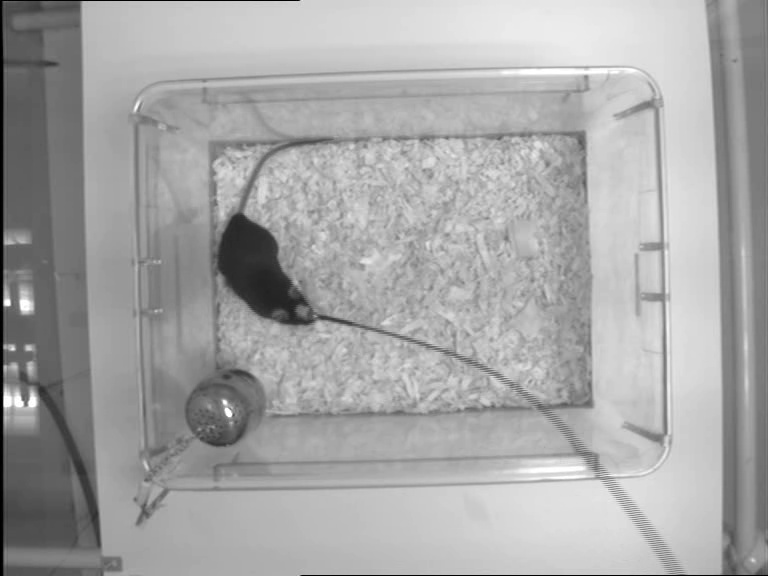mice: (215, 136, 337, 327)
